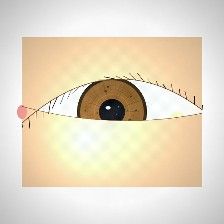pinguecula_lesion: (162, 106, 193, 131)
